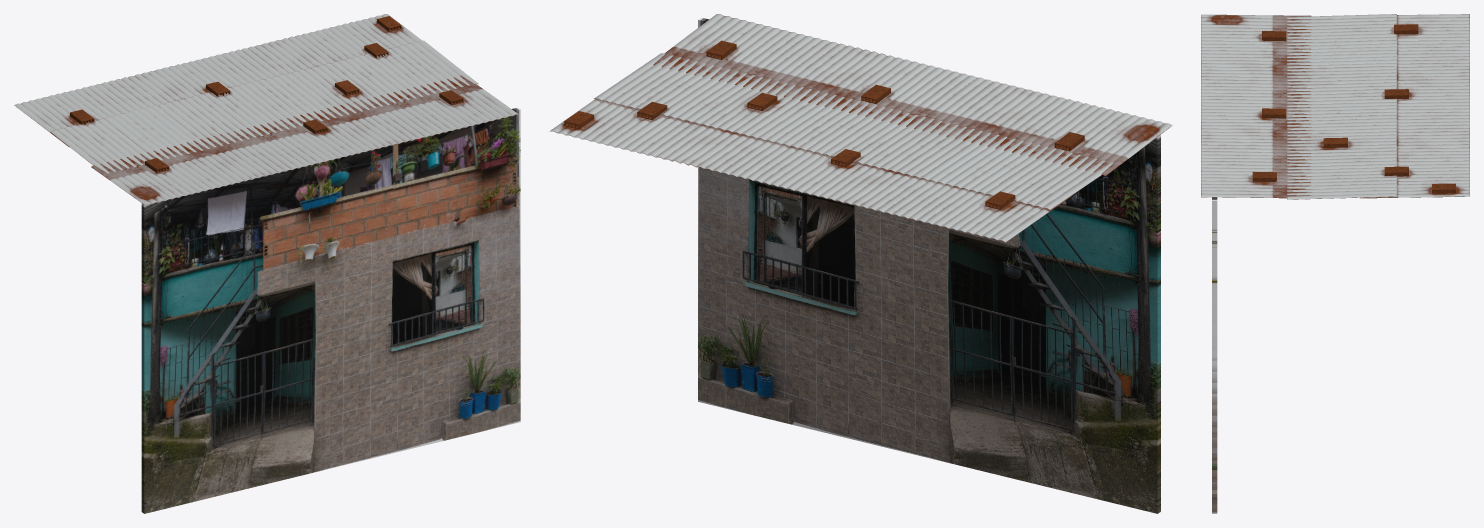
The model's file is casa_derecha_08S.fbx.
3 views of the same model, side by side, from view 1: azimuth 30°, elevation 25°; view 2: azimuth 150°, elevation 25°; view 3: azimuth 270°, elevation 25° (orthographic). The views are drawn at different scales.
Parts seen in each view (by area): view 1: casa_derecha_08S.001, Techo_1.006; view 2: casa_derecha_08S.001, Techo_1.006; view 3: Techo_1.006, casa_derecha_08S.001.
Boxes of the visible parts, bbox=[...] form: casa_derecha_08S.001: bbox=[141, 107, 520, 513]; Techo_1.006: bbox=[14, 14, 518, 205]; casa_derecha_08S.001: bbox=[698, 17, 1160, 513]; Techo_1.006: bbox=[549, 14, 1172, 242]; Techo_1.006: bbox=[1201, 14, 1469, 199]; casa_derecha_08S.001: bbox=[1212, 197, 1217, 513].
Bounding box in the file's own units: 984 × 790 × 601.
